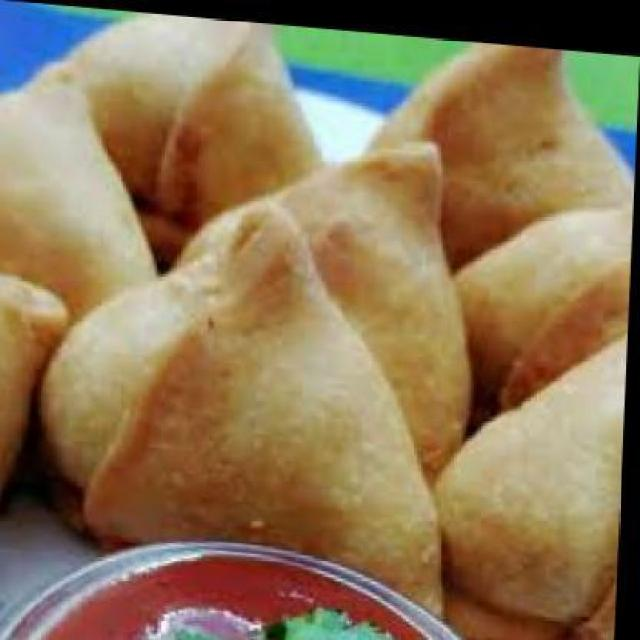samosa: (39, 186, 462, 612), (170, 117, 482, 485), (6, 2, 331, 278), (360, 26, 640, 279), (432, 311, 630, 640), (451, 175, 634, 434), (0, 54, 165, 328), (0, 271, 71, 563)
